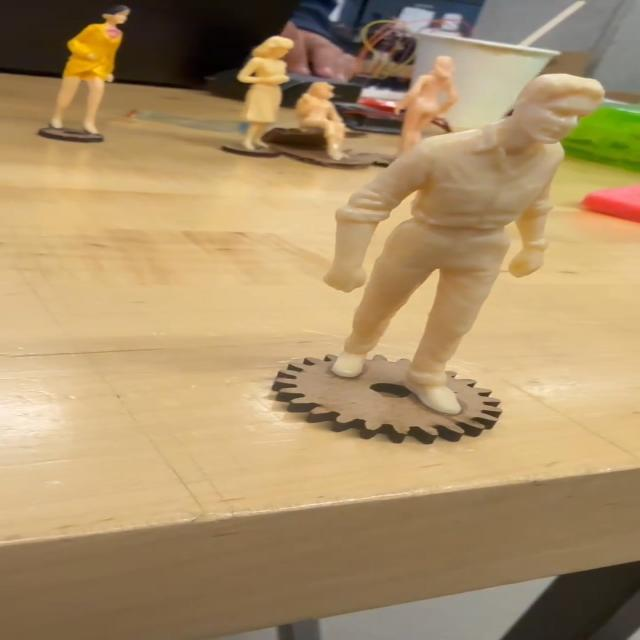Unauthorized: (329, 63, 614, 417)
